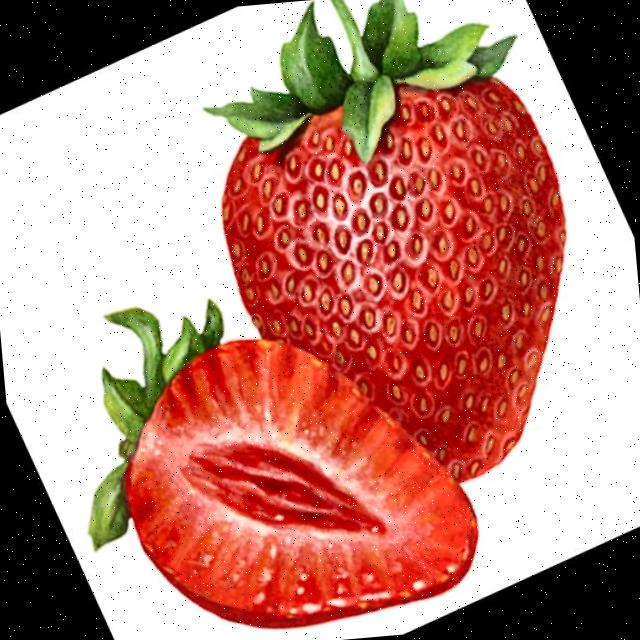strawberry: (206, 0, 564, 480), (88, 302, 477, 628)
